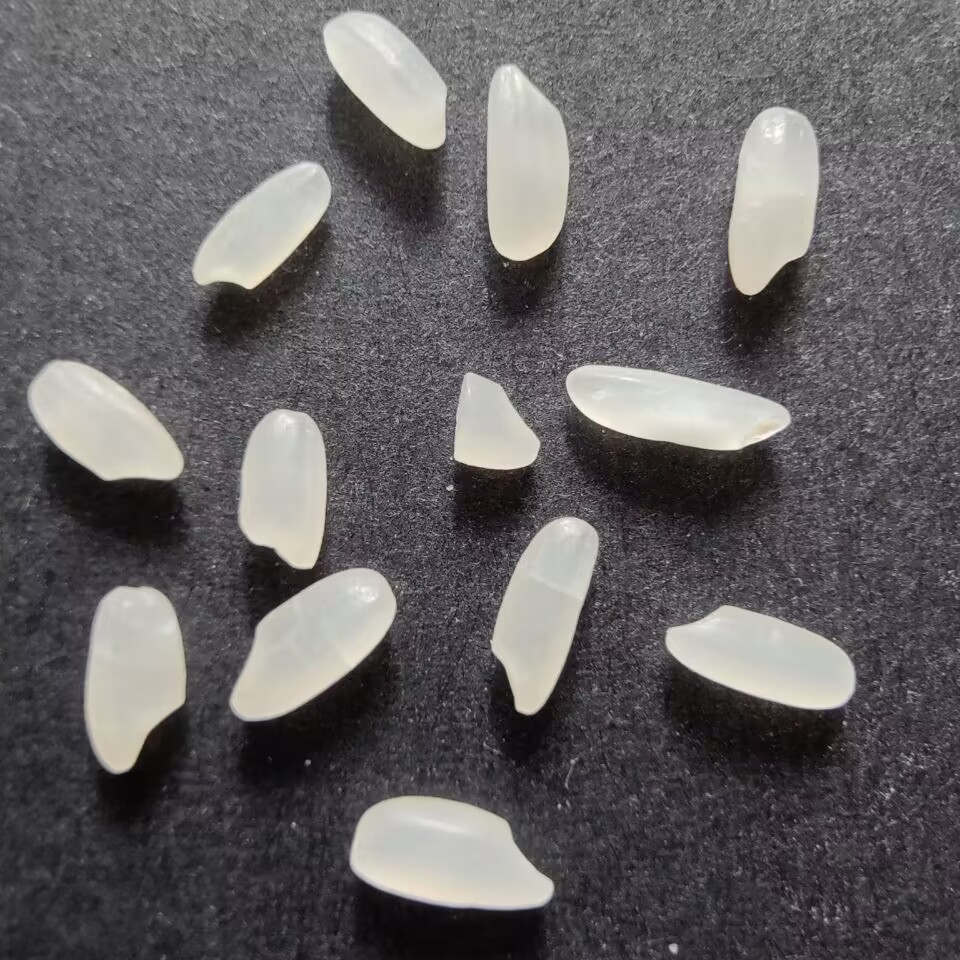broken: (447, 366, 545, 478)
rice: (226, 565, 401, 722), (344, 793, 556, 912), (481, 515, 603, 720), (561, 361, 795, 455), (660, 602, 858, 712), (26, 355, 188, 488), (185, 157, 337, 294), (83, 585, 186, 782), (726, 105, 829, 298), (317, 8, 454, 152), (478, 56, 572, 265), (237, 407, 328, 571)
